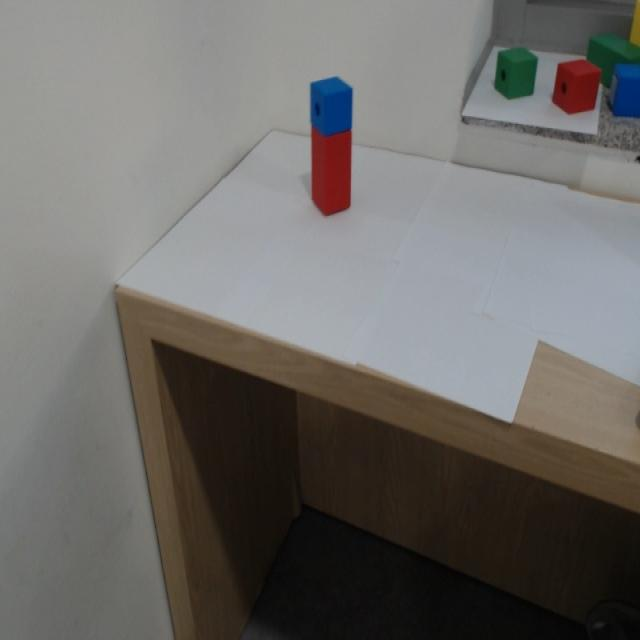cube: (302, 80, 364, 141)
